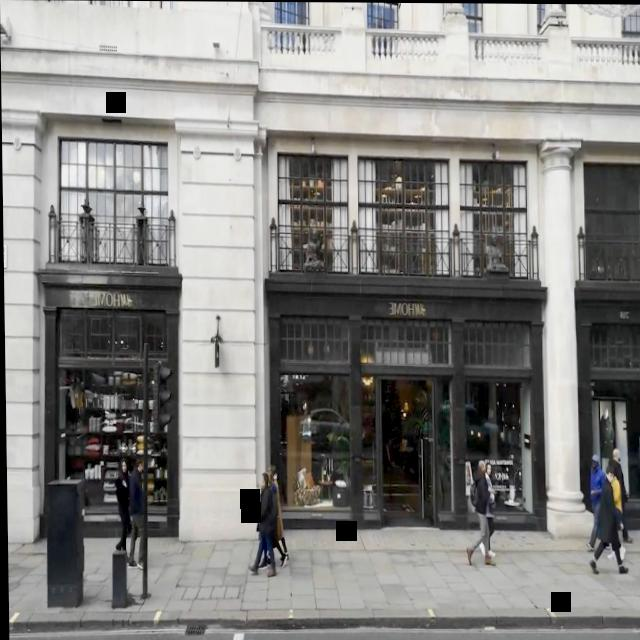Mask: (590, 460, 596, 470), (138, 462, 143, 474)
NO-Mask: (606, 473, 613, 483), (485, 466, 490, 476), (481, 462, 485, 474), (120, 461, 124, 473), (616, 451, 620, 461), (259, 477, 263, 487)
